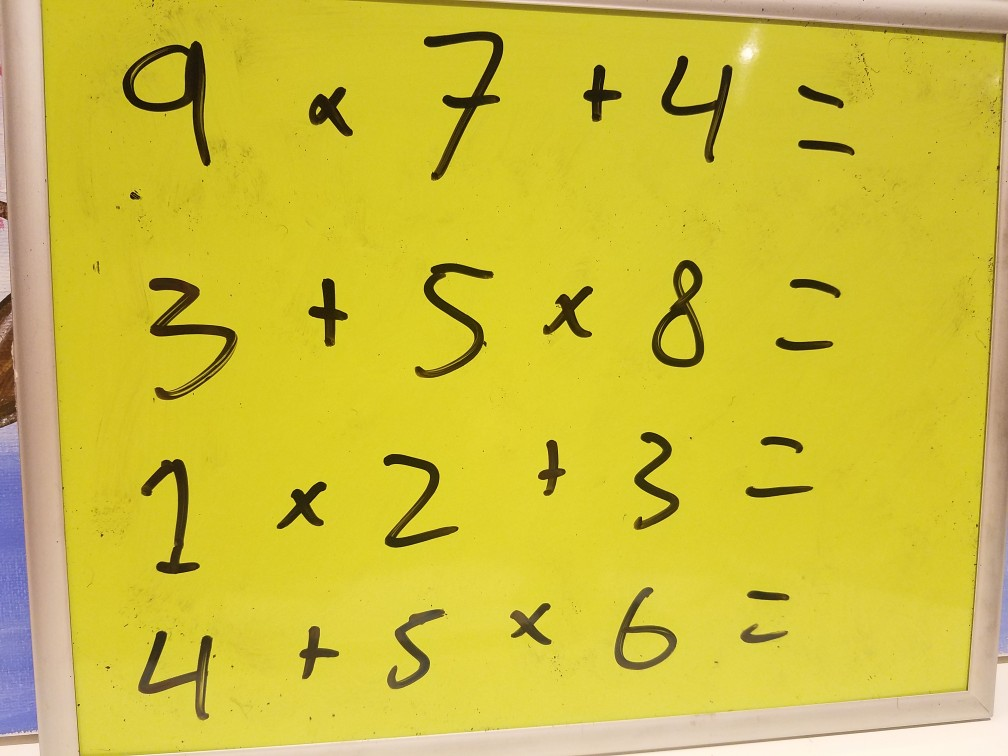+: (288, 263, 356, 356), (566, 56, 626, 130), (530, 426, 581, 507), (288, 611, 339, 688)
1: (134, 448, 215, 582)
2: (371, 439, 466, 560)
3: (133, 258, 242, 409), (620, 413, 697, 552)
4: (652, 39, 736, 176), (138, 621, 227, 728)
5: (406, 252, 499, 383), (373, 594, 450, 703)
6: (601, 581, 686, 681)
7: (409, 23, 506, 181)
8: (644, 252, 713, 380)
9: (111, 18, 235, 180)
=: (769, 260, 856, 365), (735, 421, 829, 513), (791, 69, 862, 171), (729, 563, 806, 652)
x: (274, 458, 333, 538), (536, 268, 595, 345), (293, 80, 360, 138), (499, 597, 552, 659)
